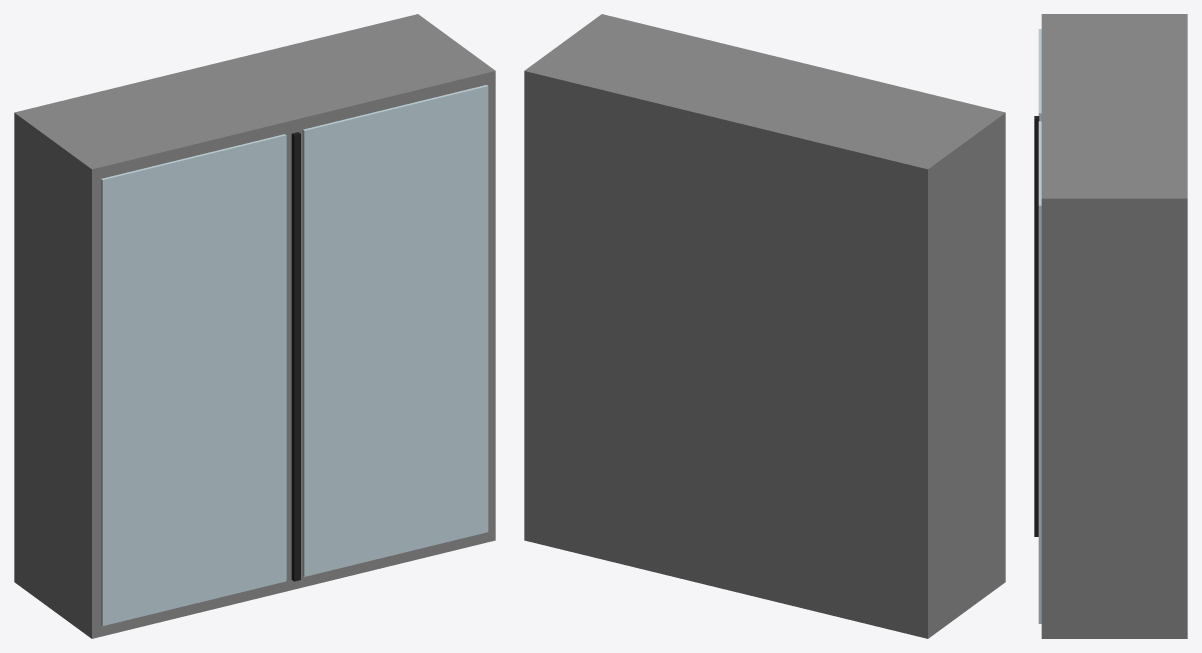
Rendered from wardrobe_glass.glb.
3 views of the same model, side by side, from view 1: azimuth 30°, elevation 25°; view 2: azimuth 150°, elevation 25°; view 3: azimuth 270°, elevation 25° (orthographic). The views are drawn at different scales.
Visible parts, largest first — view 1: wardrobe_glass; view 2: wardrobe_glass; view 3: wardrobe_glass.
Boxes of the visible parts, bbox=[...] form: wardrobe_glass: bbox=[14, 14, 495, 638]; wardrobe_glass: bbox=[524, 14, 1005, 638]; wardrobe_glass: bbox=[1034, 14, 1187, 638].
Size of the model in its own units: 1.8 by 2 by 0.63.
